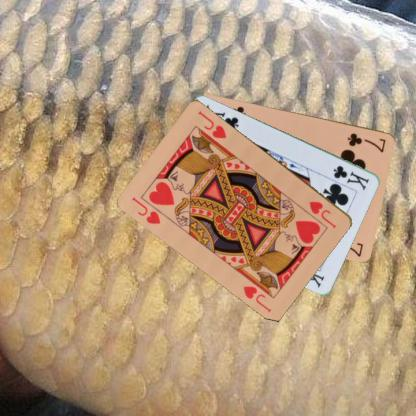7c: (345, 130, 387, 154)
Jh: (129, 194, 162, 226), (306, 198, 338, 230)
Kc: (331, 162, 370, 192)
